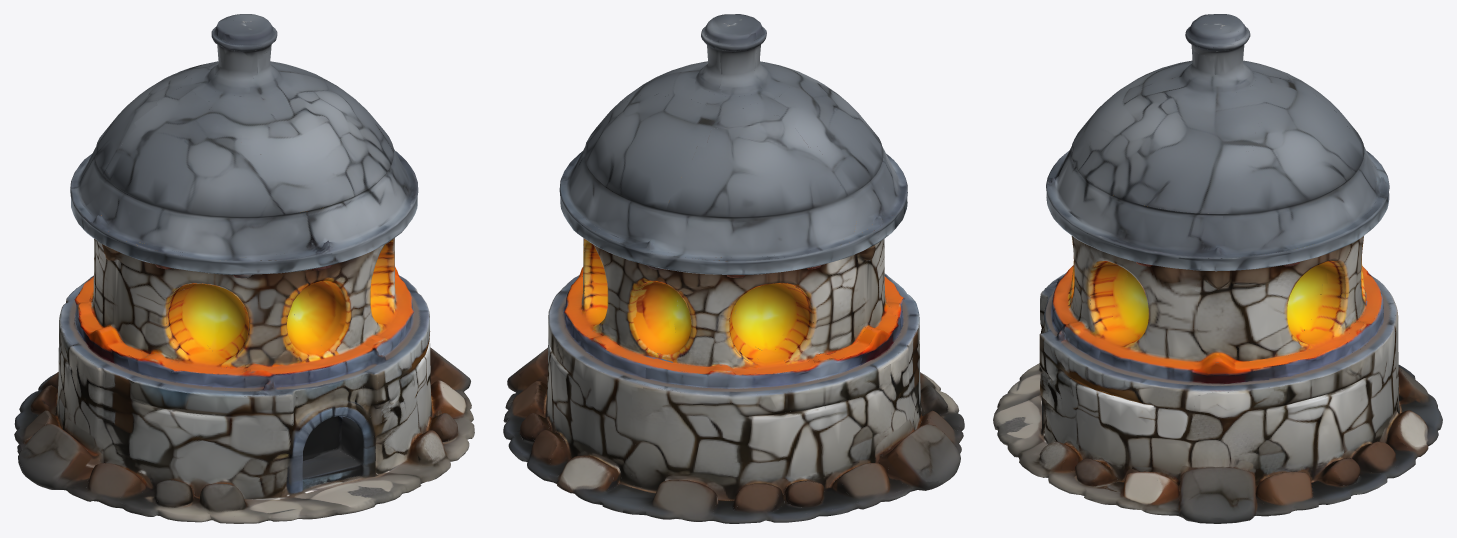
The model's file is sc_furnace.glb.
3 renders of one model, left to right at view 1: azimuth 30°, elevation 25°; view 2: azimuth 150°, elevation 25°; view 3: azimuth 270°, elevation 25°, orthographic.
Parts seen in each view (by area): view 1: model; view 2: model; view 3: model.
Boxes of the visible parts, bbox=[...] form: model: bbox=[14, 14, 474, 523]; model: bbox=[503, 14, 964, 523]; model: bbox=[993, 14, 1442, 523].
Size of the model in its own units: 1.9 by 1.71 by 1.76.
Materials: 1 (1 with a texture image).
